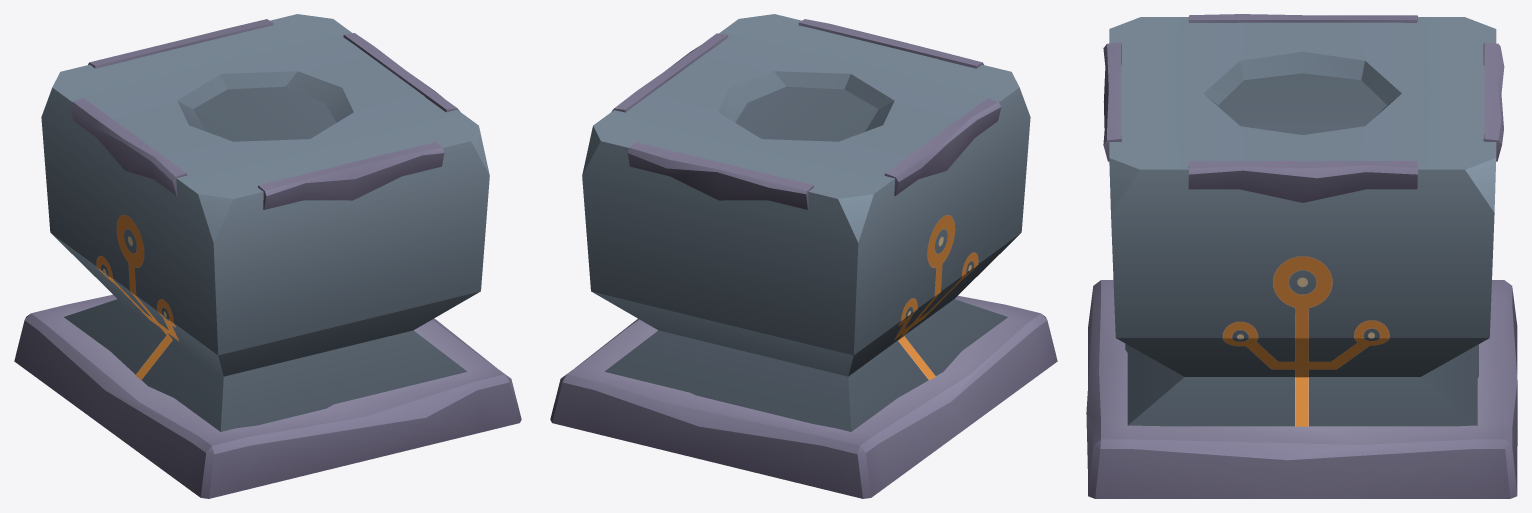
The model's file is MODEL_TransmitterBlock.fbx.
3 renders of one model, left to right at view 1: azimuth 30°, elevation 25°; view 2: azimuth 150°, elevation 25°; view 3: azimuth 270°, elevation 25°, orthographic. The views are drawn at different scales.
Visible parts, largest first — view 1: TransmitterBlock; view 2: TransmitterBlock; view 3: TransmitterBlock.
Part boxes in pixels (x1,y1,x2,y2): TransmitterBlock: [14, 14, 521, 498]; TransmitterBlock: [550, 14, 1057, 498]; TransmitterBlock: [1086, 14, 1517, 498].
Bounding box in the file's own units: 67.58 × 57.67 × 70.18.
